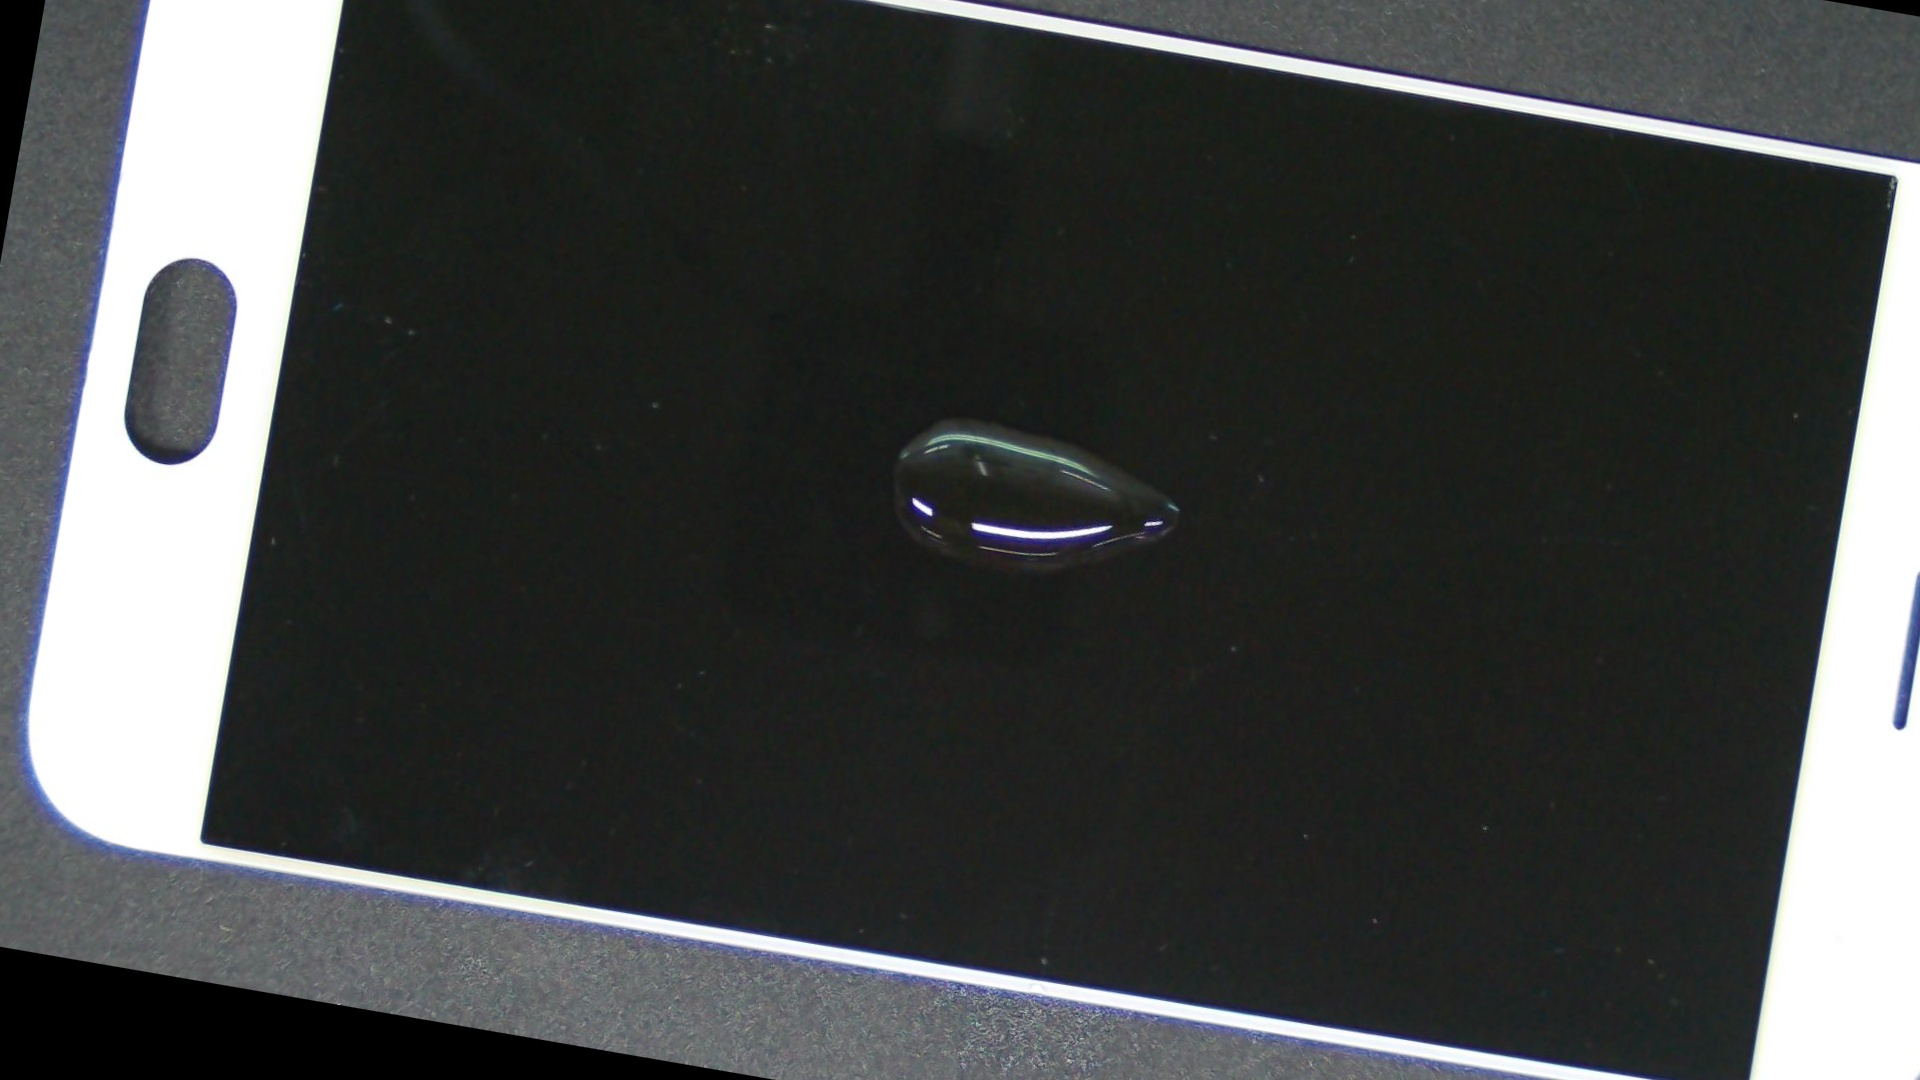oil: (447, 62, 1524, 779)
